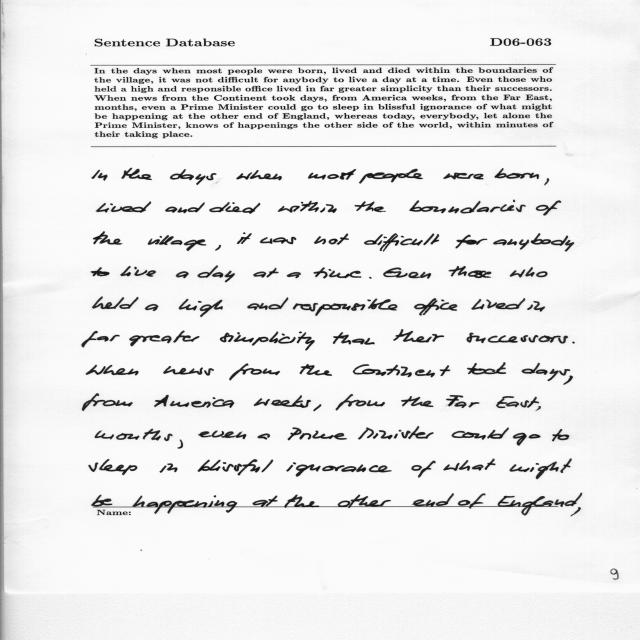word: (132, 493, 565, 507), (132, 493, 558, 507), (132, 493, 558, 507), (132, 493, 558, 507), (132, 493, 558, 507), (132, 493, 558, 507), (220, 332, 315, 351), (293, 299, 397, 316), (286, 462, 392, 477), (493, 233, 575, 252), (409, 200, 526, 213), (364, 233, 439, 252), (353, 364, 450, 378), (198, 459, 273, 476), (509, 459, 572, 479), (129, 331, 200, 347), (466, 333, 568, 344), (154, 395, 234, 408), (358, 427, 434, 440), (359, 169, 423, 184), (95, 429, 173, 441), (148, 235, 206, 251), (229, 363, 280, 381), (522, 363, 571, 381), (82, 394, 133, 411), (335, 394, 385, 410), (179, 299, 223, 317), (414, 298, 458, 316), (89, 459, 137, 475), (288, 428, 347, 441), (451, 427, 509, 440), (254, 395, 311, 408), (170, 169, 216, 185), (278, 201, 337, 213), (393, 330, 444, 343), (97, 201, 152, 213), (472, 298, 526, 310), (443, 459, 496, 471), (198, 266, 235, 283), (210, 202, 261, 214), (82, 331, 120, 347), (86, 365, 139, 376), (314, 267, 362, 279), (93, 297, 139, 309), (333, 332, 375, 345), (247, 297, 288, 310), (308, 169, 356, 180), (383, 268, 431, 279), (496, 396, 539, 408), (163, 366, 214, 376), (449, 266, 491, 278), (494, 168, 539, 179), (467, 363, 506, 375), (236, 170, 282, 180), (165, 203, 205, 214), (456, 235, 487, 249), (446, 395, 479, 408), (411, 461, 436, 478), (314, 233, 349, 245), (510, 267, 548, 278), (120, 266, 156, 277), (299, 364, 332, 376), (198, 431, 247, 439), (94, 232, 123, 245), (536, 201, 561, 216), (121, 168, 152, 180), (513, 433, 541, 446), (401, 396, 433, 407), (355, 202, 386, 213), (443, 173, 484, 180), (253, 268, 279, 278), (260, 237, 296, 244), (565, 493, 583, 507), (92, 495, 112, 507), (552, 429, 569, 441), (527, 301, 545, 312), (237, 232, 252, 244), (160, 463, 178, 473), (91, 268, 110, 277), (92, 170, 107, 181), (176, 271, 189, 278), (145, 304, 158, 311), (563, 376, 573, 385), (287, 272, 301, 278), (258, 434, 270, 440), (314, 404, 322, 411), (177, 440, 183, 449), (215, 245, 221, 251), (544, 179, 549, 186), (536, 406, 541, 411), (369, 277, 372, 279), (572, 342, 575, 344), (214, 496, 216, 498)
